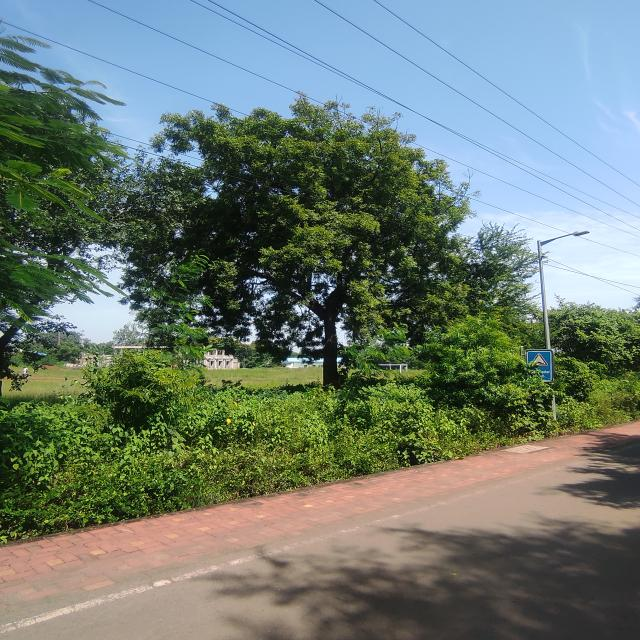Neem-Tree: (158, 101, 470, 342)
